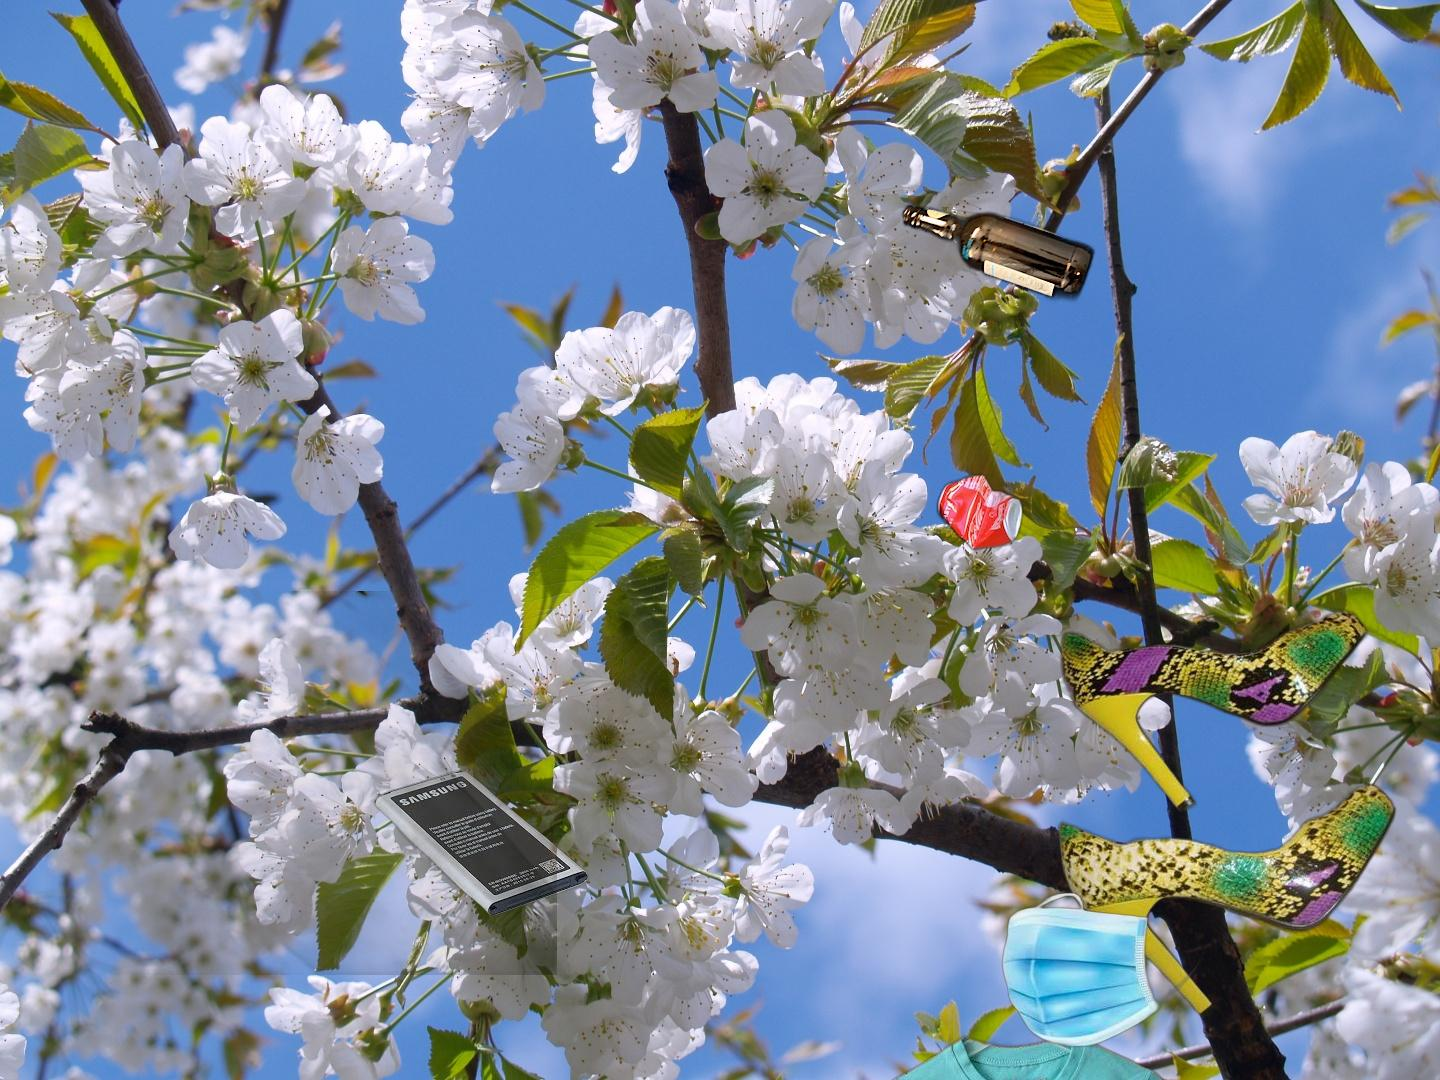battery: (371, 767, 592, 919)
clothes: (839, 985, 1225, 1080)
glass: (45, 591, 557, 974), (899, 199, 1098, 305)
metal-cans: (732, 469, 1027, 881)
shoes: (1054, 604, 1399, 1023)
trash: (999, 891, 1209, 1051)
